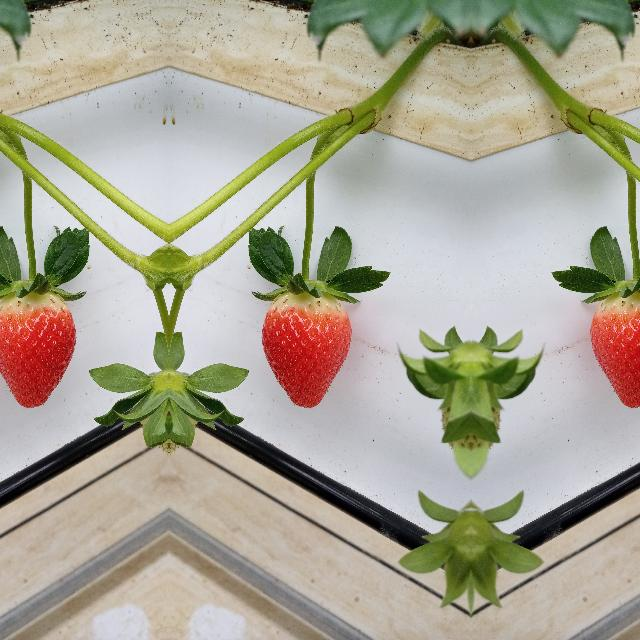Health_100: (260, 290, 352, 408), (0, 289, 75, 408), (589, 289, 640, 408)
